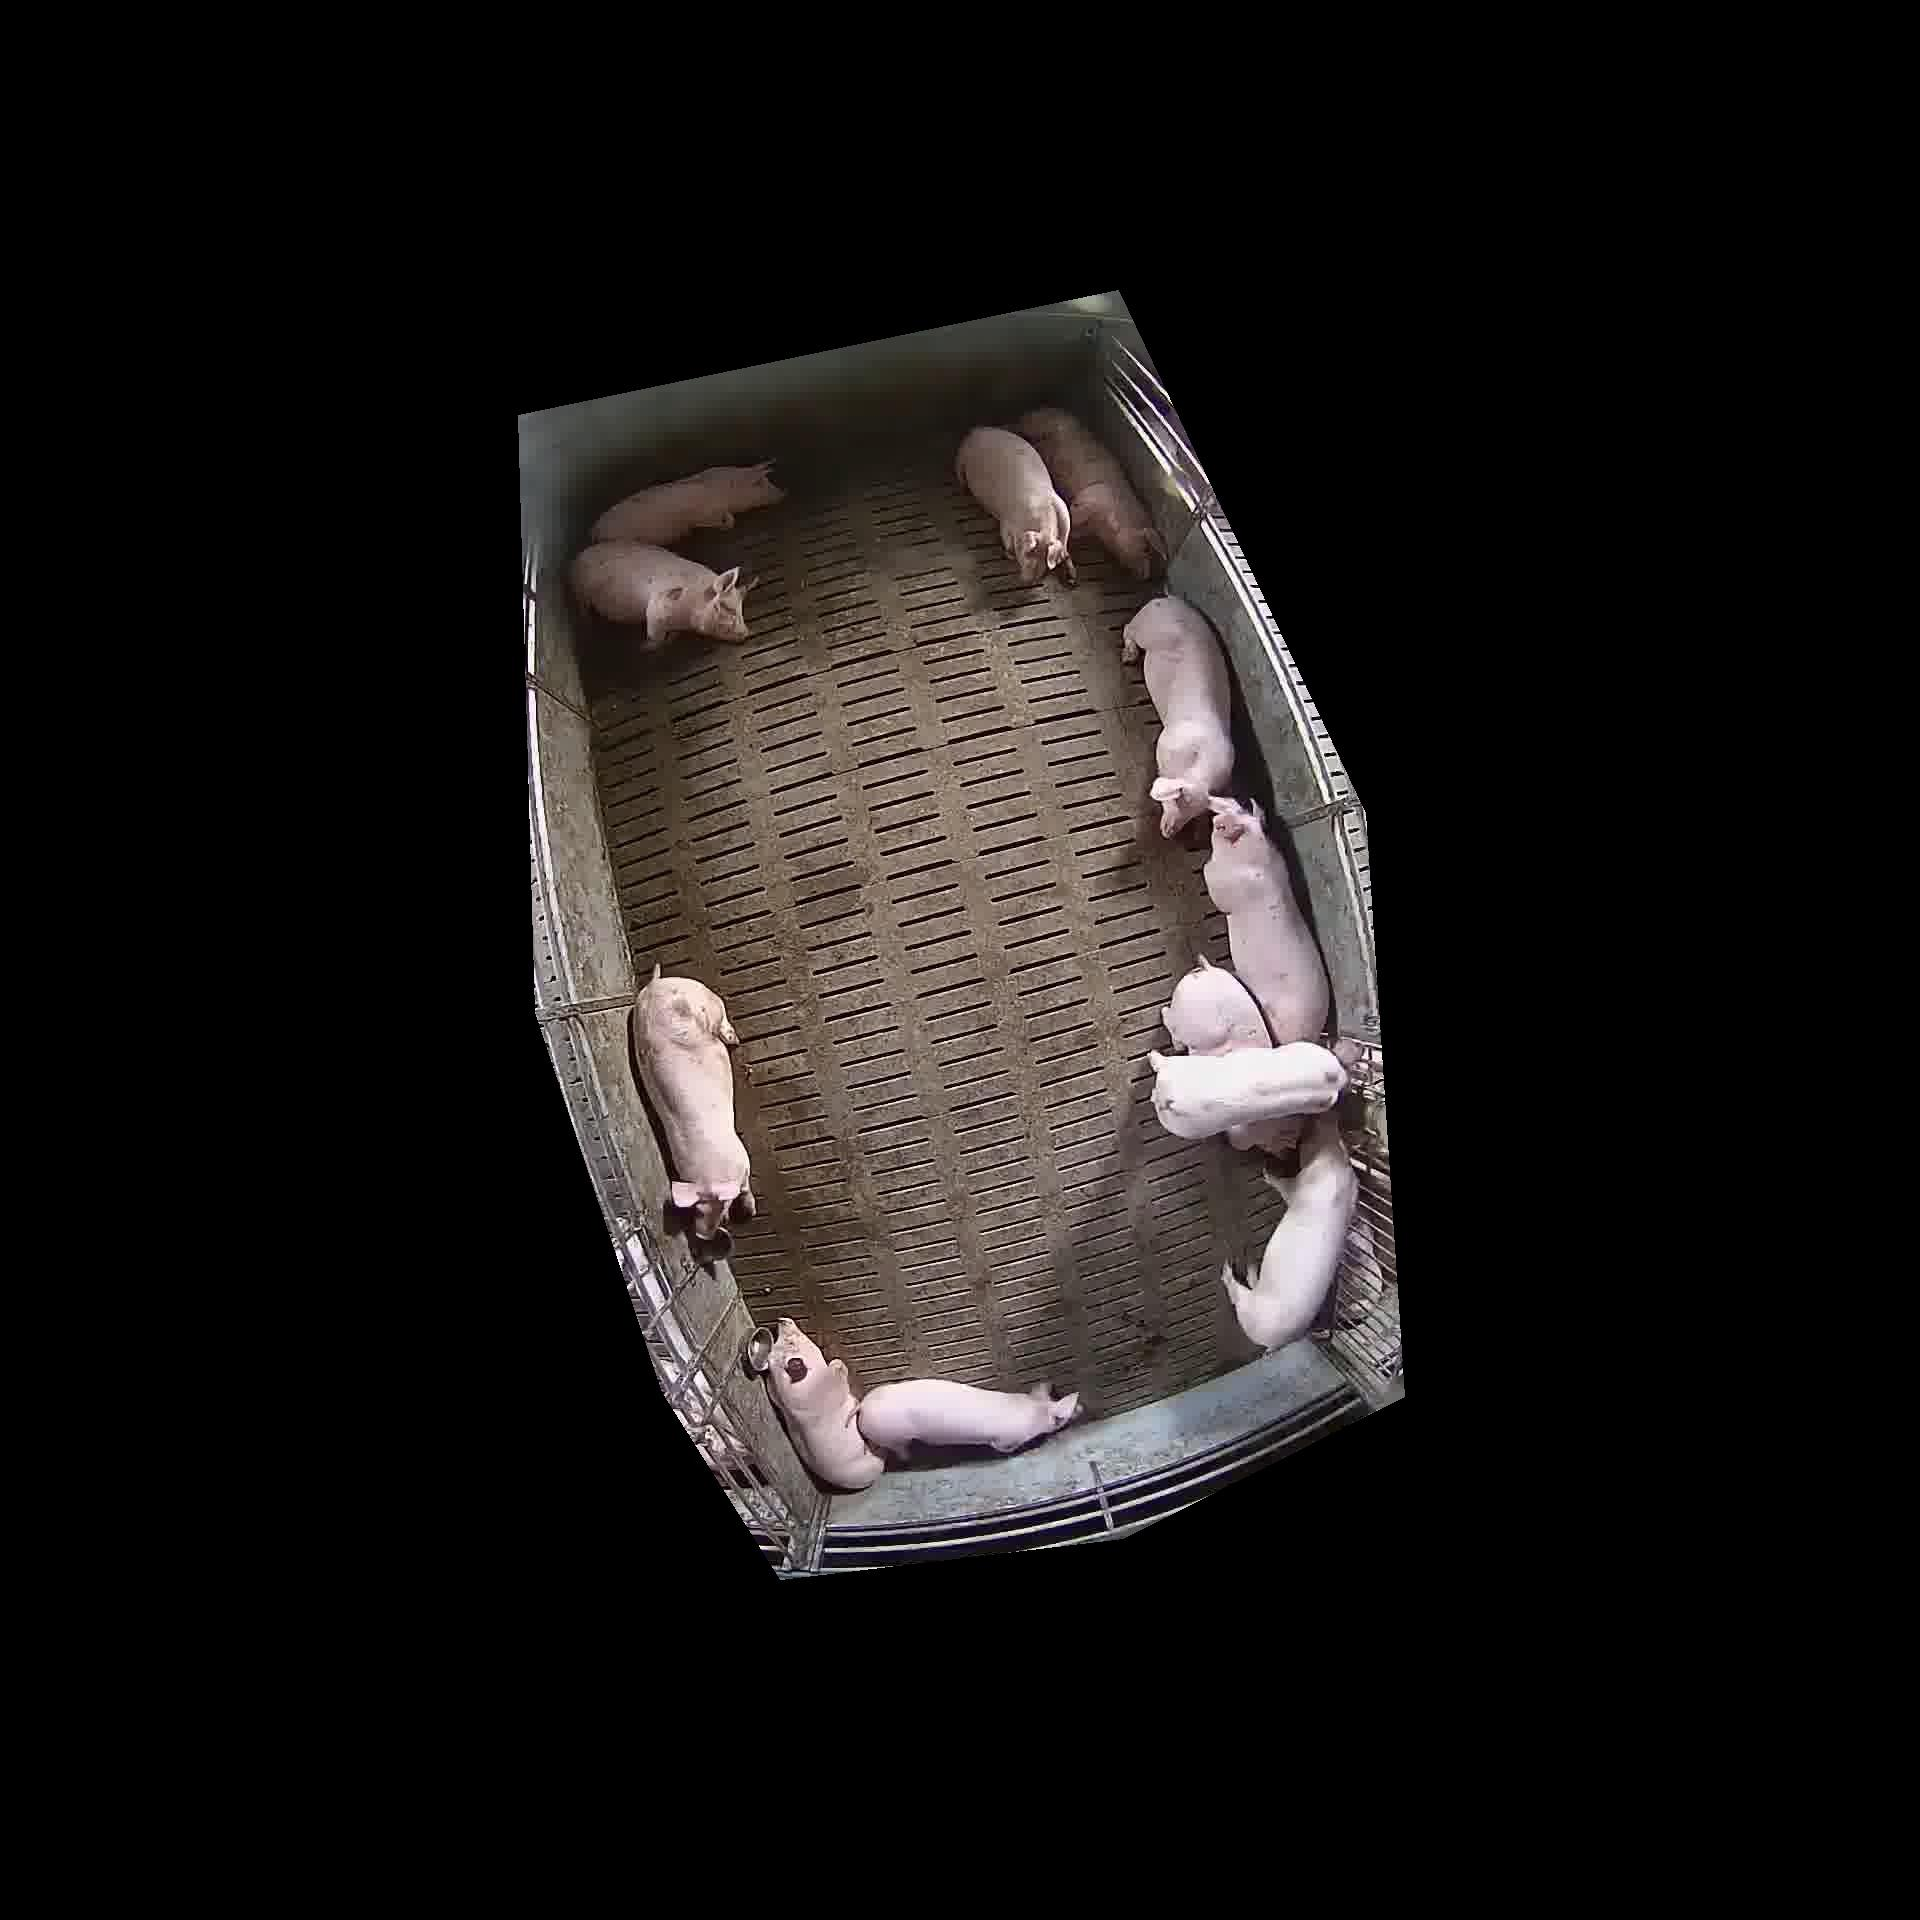pig: (767, 1319, 1080, 1489), (633, 969, 754, 1240), (1224, 1113, 1357, 1349), (1204, 796, 1329, 1043), (1124, 596, 1234, 835), (1020, 406, 1166, 578), (767, 1319, 883, 1489), (571, 540, 749, 651), (955, 427, 1074, 585), (1150, 1043, 1347, 1138), (858, 1378, 1080, 1458), (591, 462, 782, 545), (1162, 956, 1275, 1053)
